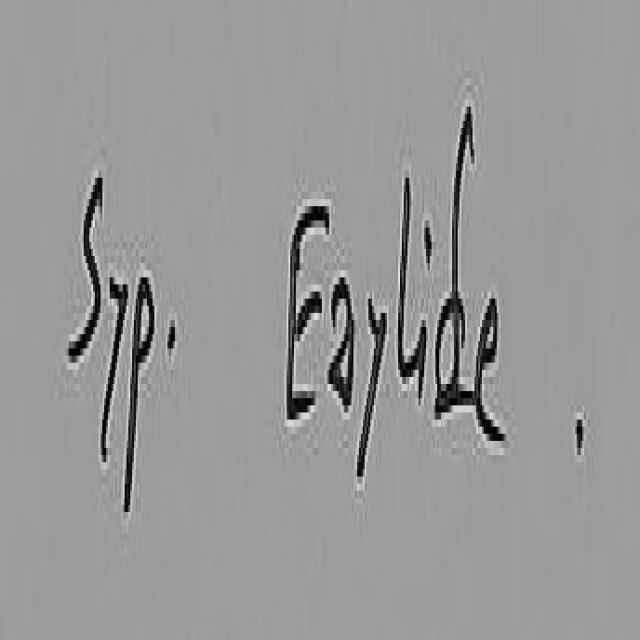E: (287, 206, 328, 416)
S: (69, 178, 102, 359)
e: (476, 299, 506, 441)
f: (435, 107, 476, 411)
i: (405, 320, 429, 413), (425, 220, 432, 273)
l: (395, 178, 413, 396)
p: (125, 273, 154, 508)
y: (357, 284, 386, 473), (100, 258, 127, 459)
z: (329, 277, 355, 409)
